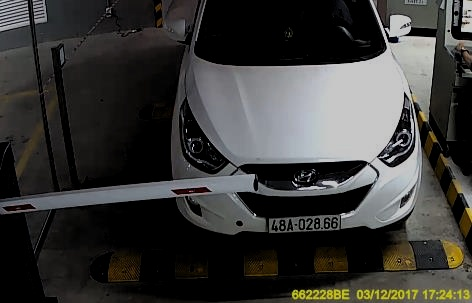plate: (264, 204, 344, 233)
